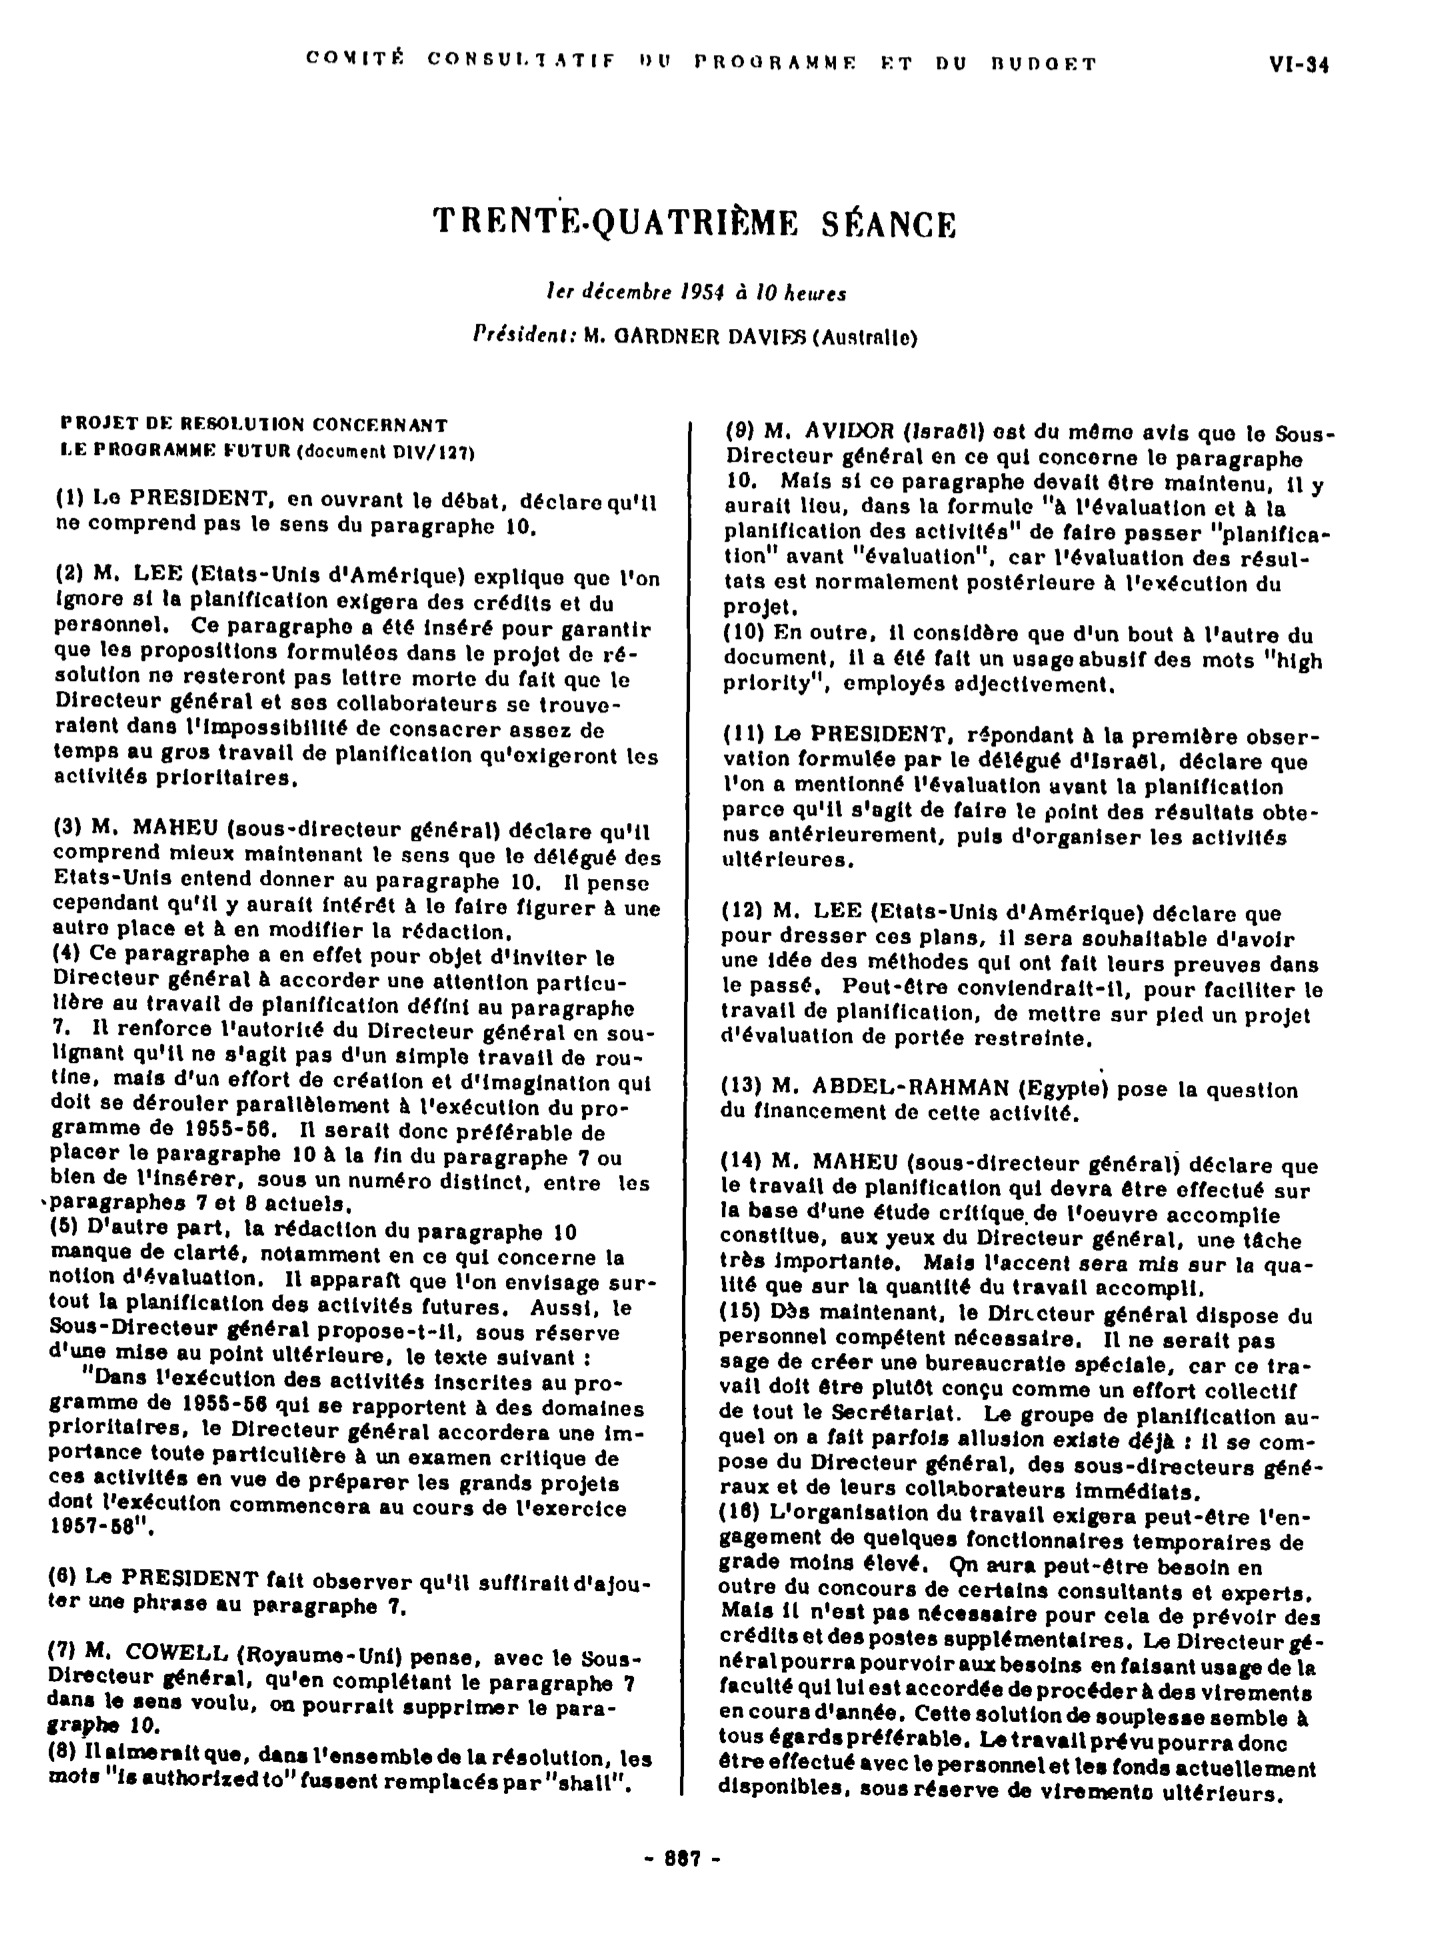MainZone-Head: (422, 186, 971, 362), (51, 404, 482, 469)
MainZone-ListItem: (714, 1503, 1324, 1809), (40, 556, 669, 791), (719, 415, 1340, 619), (43, 1015, 661, 1216), (713, 1306, 1325, 1498), (44, 1365, 648, 1542), (711, 1141, 1322, 1302), (717, 719, 1325, 876), (715, 895, 1322, 1052), (44, 1217, 662, 1366), (45, 807, 667, 944), (42, 1638, 654, 1738), (718, 619, 1329, 700), (46, 943, 656, 1019), (41, 1560, 652, 1622), (46, 478, 664, 539), (714, 1069, 1313, 1128), (42, 1739, 655, 1796)
StampZone: (286, 36, 1107, 90)
TitlePageZone: (638, 1841, 726, 1876), (1258, 48, 1338, 77)
